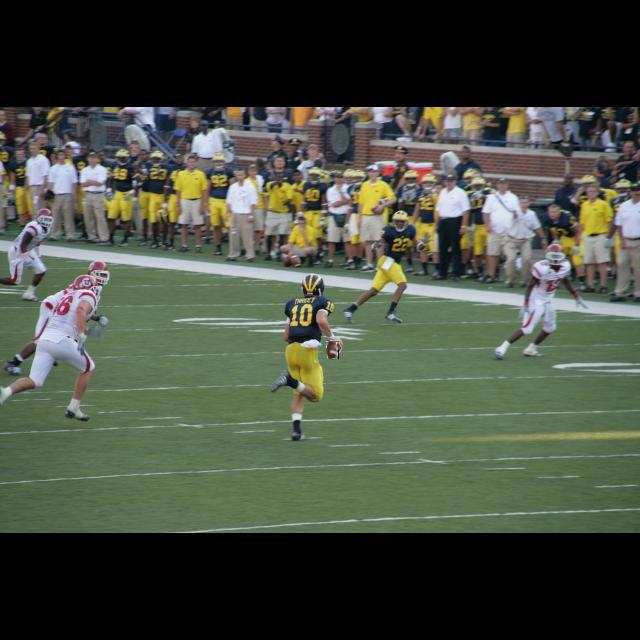Football: (327, 341, 339, 359)
